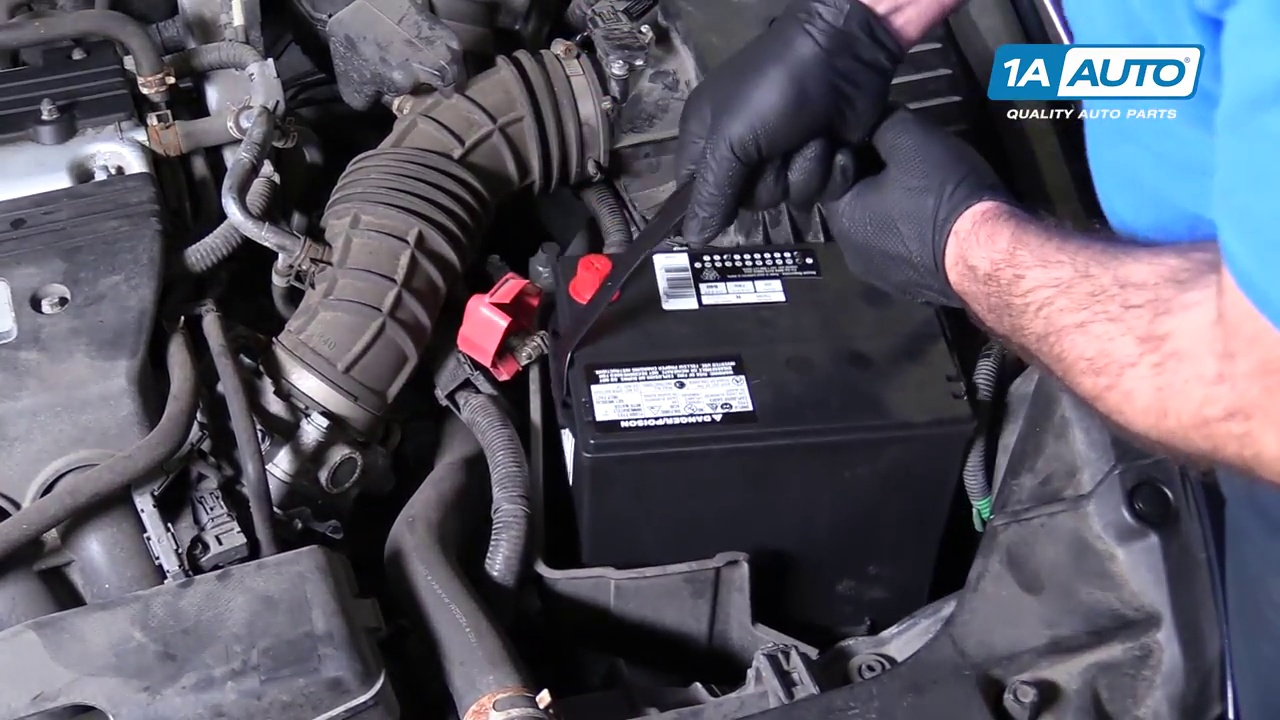battery: (539, 243, 974, 442)
pos_disconnected: (415, 227, 639, 379)
